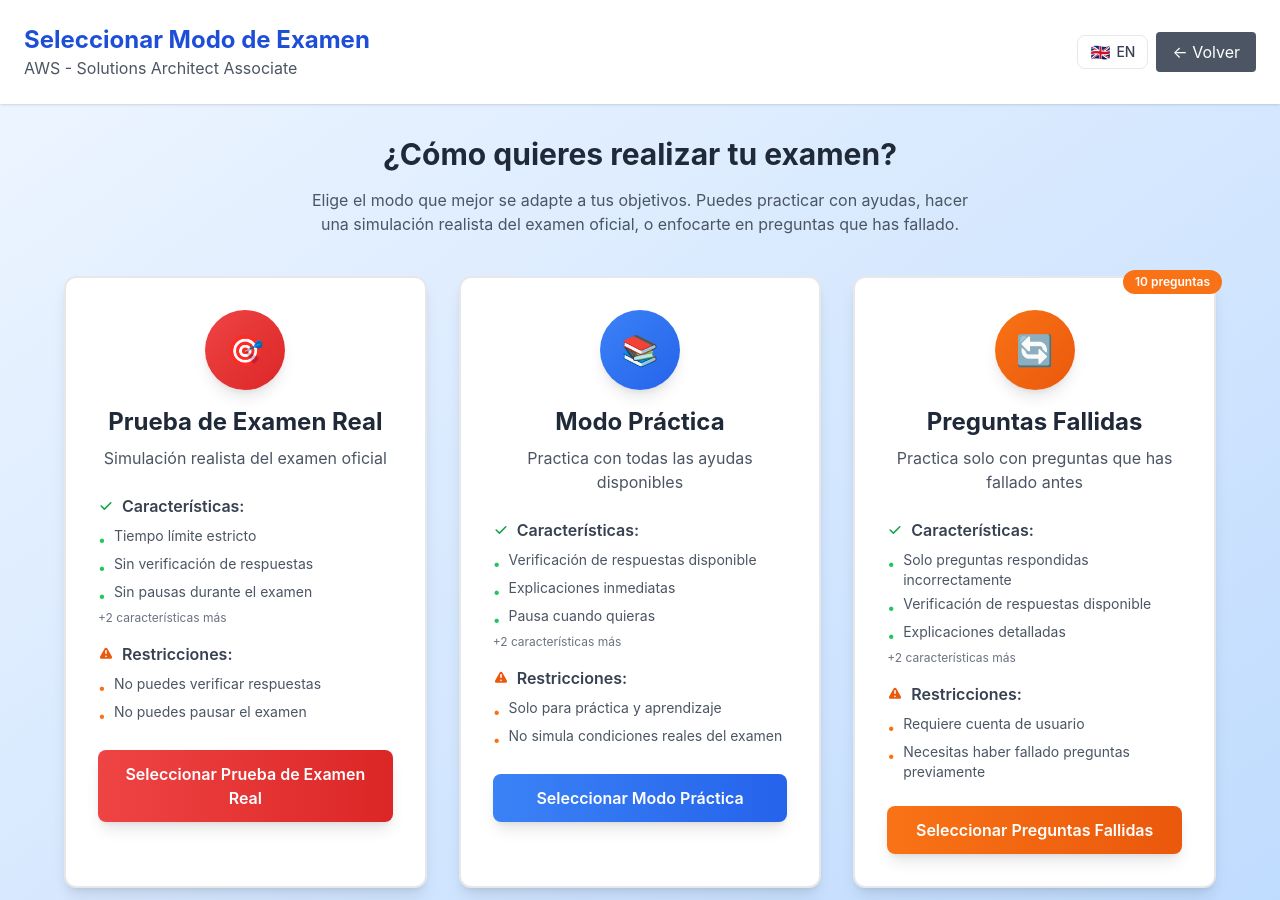
Test: ExamModeSelector › Selección de modo › selecciona modo práctica al hacer clic
Click the text "Modo Práctica" at (640, 582), box [459, 276, 821, 888]
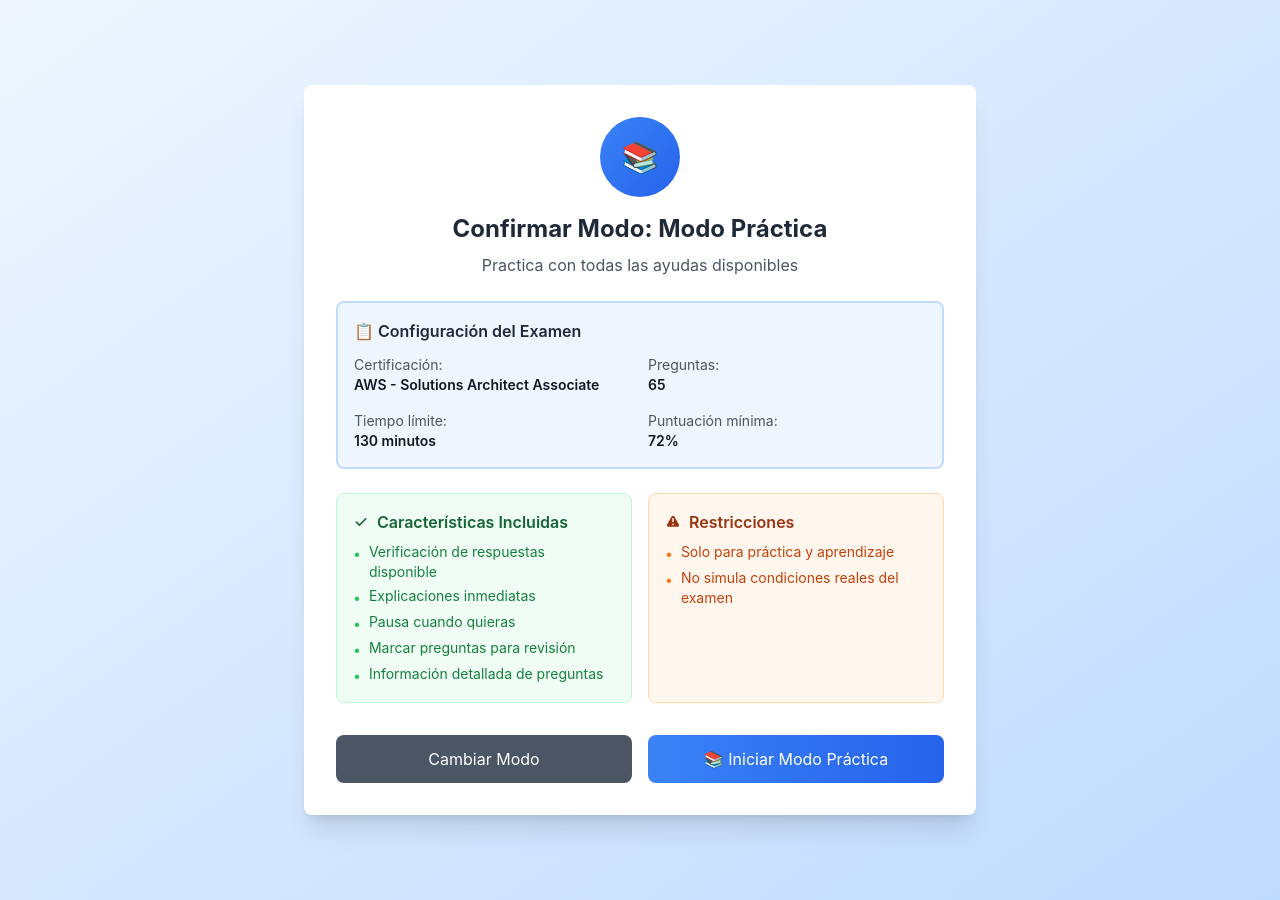
Check: the heading "Confirmar Modo: Modo Práctica" is shown, box [453, 214, 827, 243]
